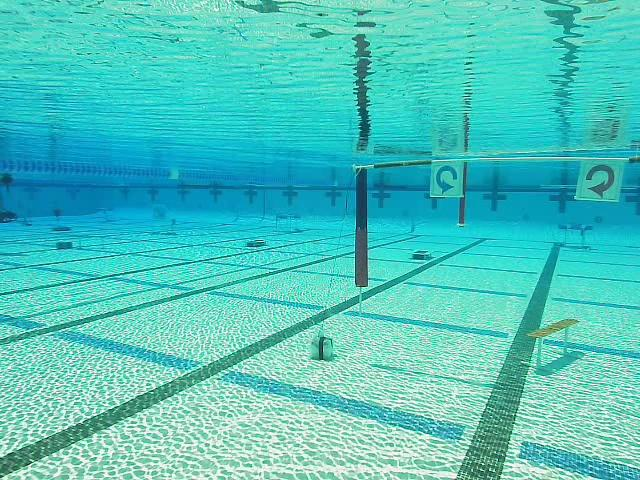dropper: (412, 247, 433, 265), (245, 237, 268, 248)
gate_blue: (430, 165, 464, 197)
gate_leg_l: (355, 166, 368, 287)
gate_red: (574, 161, 624, 203)
table: (556, 221, 591, 250)
torpedo: (150, 202, 168, 222)
